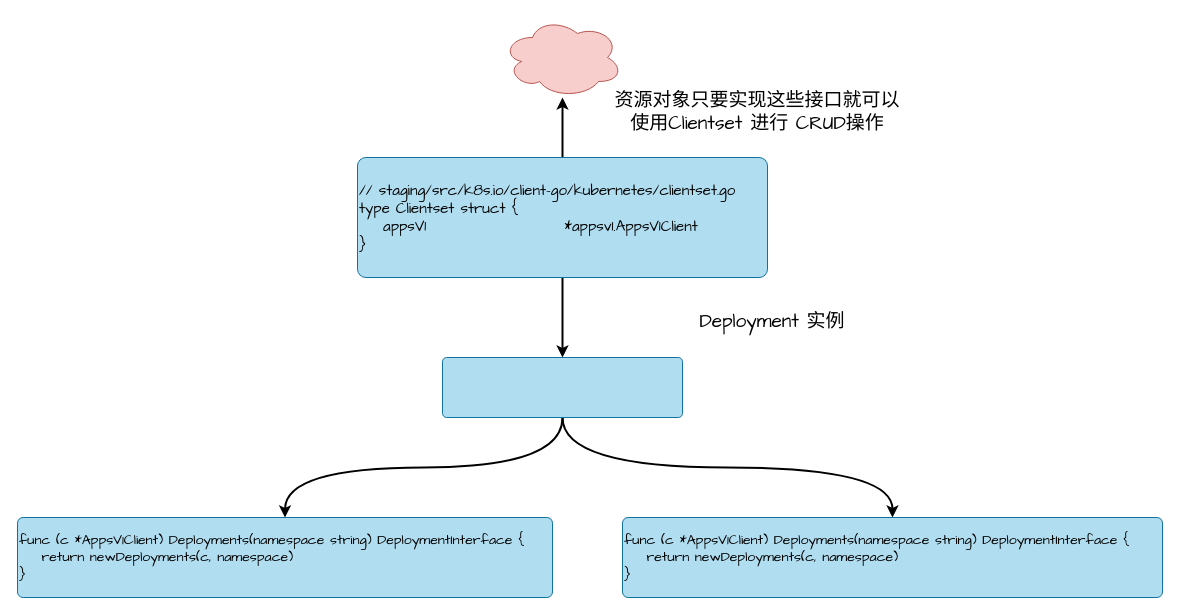
Image size: 1180x615. Some labels were removed from this diagram. Here are the shapes that lost their labels. From the top down, the centre of each, then its label:
At (x=562, y=57): "Clientset".
At (x=562, y=387): "type AppsV1Client struct { restClient rest.Interface }".
